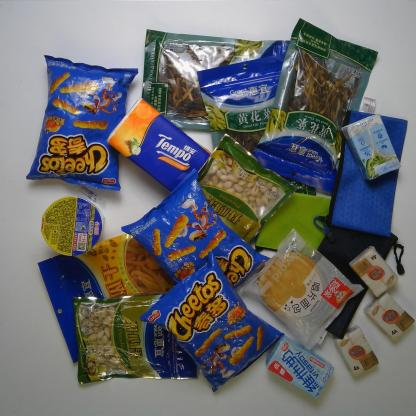Dessert: (237, 227, 364, 351)
Dried Food: (252, 17, 379, 193), (197, 53, 316, 196), (141, 29, 291, 130)
Dried Fruit: (37, 233, 176, 364), (72, 292, 199, 385), (198, 132, 298, 246)
Instant Noodles: (40, 195, 103, 256)
Milk: (265, 334, 335, 399), (342, 114, 402, 180)
Puffed Food: (138, 250, 286, 393), (121, 167, 270, 290), (25, 54, 139, 192)
Stationery: (313, 110, 408, 237), (316, 226, 405, 340), (255, 192, 332, 252)
Tissue: (106, 97, 212, 192), (348, 245, 399, 298), (364, 291, 415, 341), (332, 324, 379, 378)
